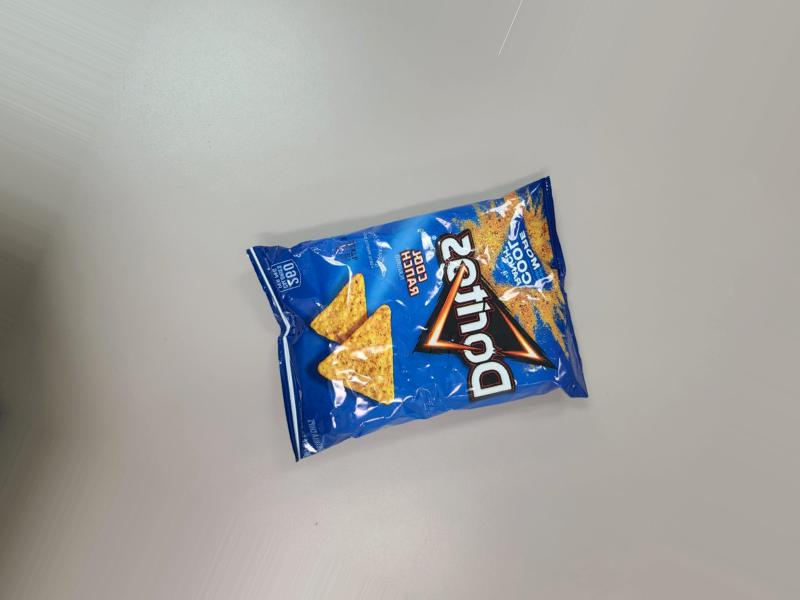doritos: (242, 139, 587, 482)
